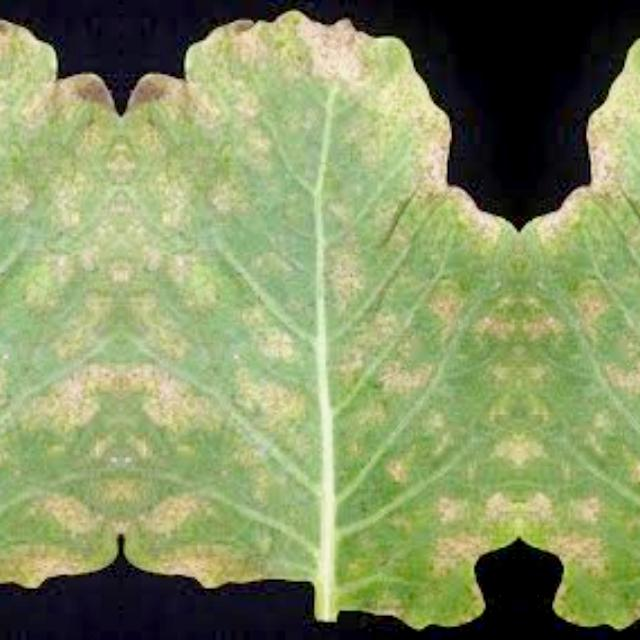Downy_mildew: (122, 2, 520, 640), (0, 2, 122, 639), (520, 2, 640, 639)
